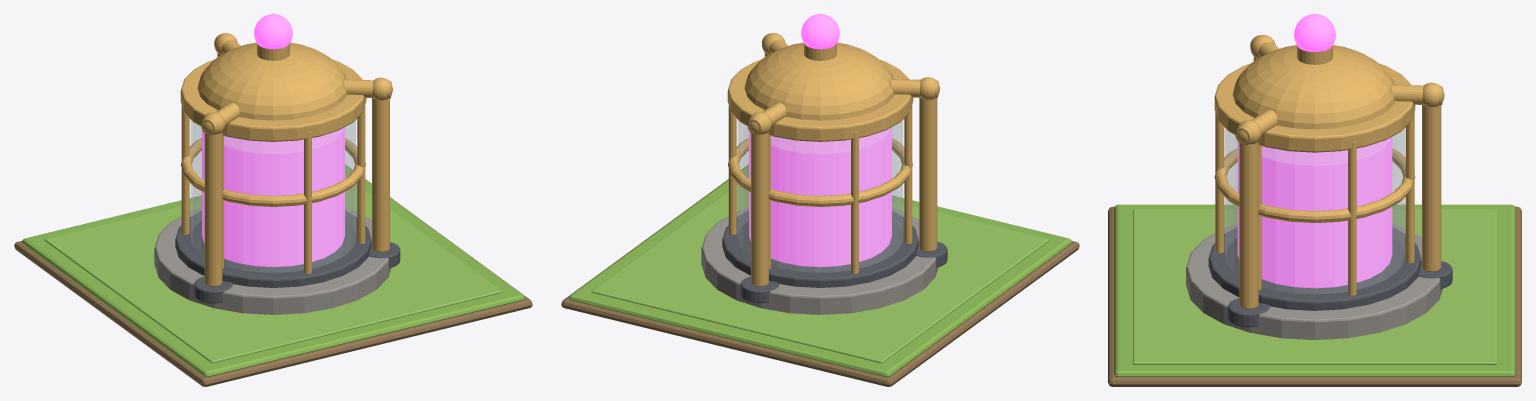
File: elixir_collector_lv2.glb
3 renders of one model, left to right at view 1: azimuth 30°, elevation 25°; view 2: azimuth 150°, elevation 25°; view 3: azimuth 270°, elevation 25°, orthographic. The views are drawn at different scales.
Visible parts, largest first — view 1: Base_Inner, GlassCylinder, ElixirLiquid, Base_Grass, BrassDome, WellBase, Base_Dirt, WellIronRing, TopRim, PipeDown_2, PipeDown_0, MidVatBand (+7 smaller); view 2: Base_Inner, GlassCylinder, ElixirLiquid, Base_Grass, BrassDome, WellBase, Base_Dirt, WellIronRing, TopRim, PipeDown_2, PipeDown_1, MidVatBand (+7 smaller); view 3: Base_Inner, GlassCylinder, ElixirLiquid, Base_Grass, BrassDome, WellBase, Base_Dirt, WellIronRing, TopRim, PipeDown_1, PipeDown_0, MidVatBand (+12 smaller).
Boxes of the visible parts, <box> form: Base_Inner: <box>44,176,502,363</box>; GlassCylinder: <box>190,120,356,272</box>; ElixirLiquid: <box>202,127,344,267</box>; Base_Grass: <box>22,165,524,376</box>; BrassDome: <box>197,42,347,120</box>; WellBase: <box>154,208,391,314</box>; Base_Dirt: <box>14,164,532,386</box>; WellIronRing: <box>175,211,371,287</box>; TopRim: <box>180,59,366,141</box>; PipeDown_2: <box>204,132,222,286</box>; PipeDown_0: <box>372,98,389,252</box>; MidVatBand: <box>181,138,365,206</box>; Base_Inner: <box>591,176,1049,363</box>; GlassCylinder: <box>737,120,903,272</box>; ElixirLiquid: <box>749,127,891,267</box>; Base_Grass: <box>569,165,1071,376</box>; BrassDome: <box>744,42,894,120</box>; WellBase: <box>701,208,938,314</box>; Base_Dirt: <box>561,164,1079,386</box>; WellIronRing: <box>722,211,918,287</box>; TopRim: <box>727,59,913,141</box>; PipeDown_2: <box>919,97,937,251</box>; PipeDown_1: <box>751,132,768,286</box>; MidVatBand: <box>728,138,912,206</box>; Base_Inner: <box>1133,209,1496,364</box>; GlassCylinder: <box>1225,128,1404,293</box>; ElixirLiquid: <box>1237,137,1392,288</box>; Base_Grass: <box>1114,204,1515,376</box>; BrassDome: <box>1232,45,1394,129</box>; WellBase: <box>1186,224,1442,339</box>; Base_Dirt: <box>1108,206,1521,386</box>; WellIronRing: <box>1208,227,1421,310</box>; TopRim: <box>1214,63,1415,152</box>; PipeDown_1: <box>1422,105,1441,271</box>; PipeDown_0: <box>1239,141,1258,309</box>; MidVatBand: <box>1214,148,1415,222</box>.
Size of the model in its own units: 2.76 by 2.1 by 2.76.
